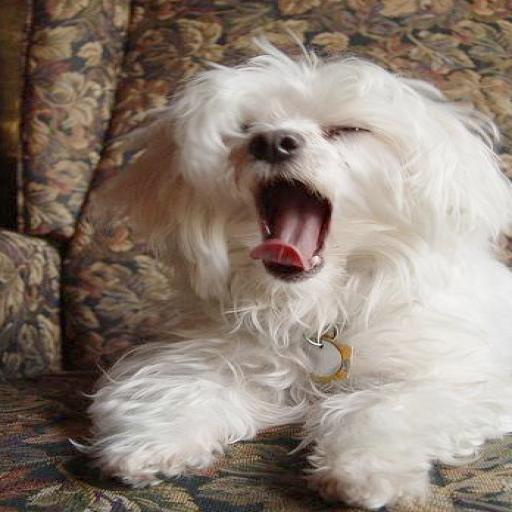dog_face: (149, 70, 445, 277)
